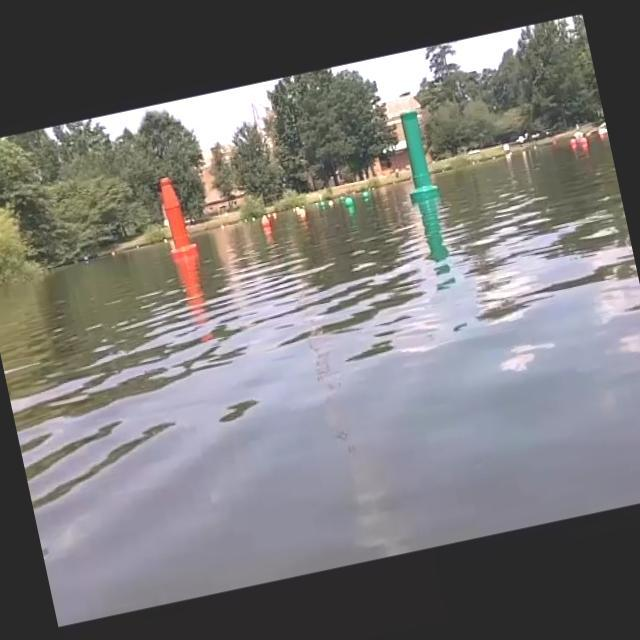buoy: (260, 215, 271, 228), (343, 196, 354, 208)
